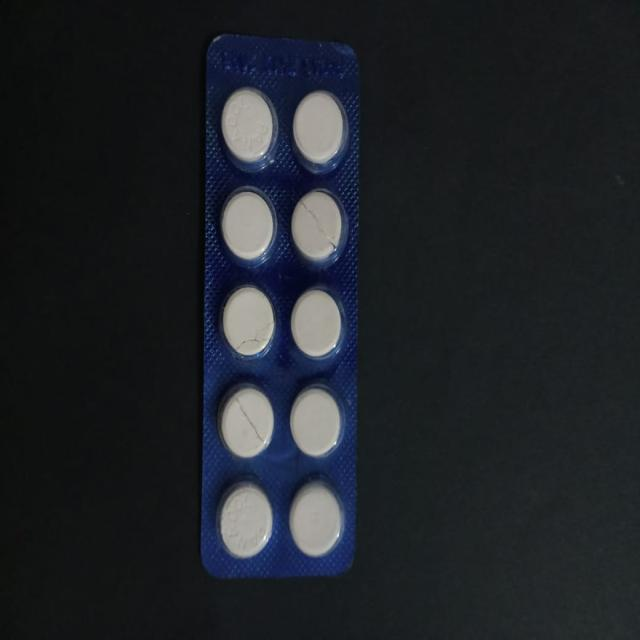defect: (221, 282, 276, 364), (289, 187, 347, 264), (220, 385, 278, 461)
